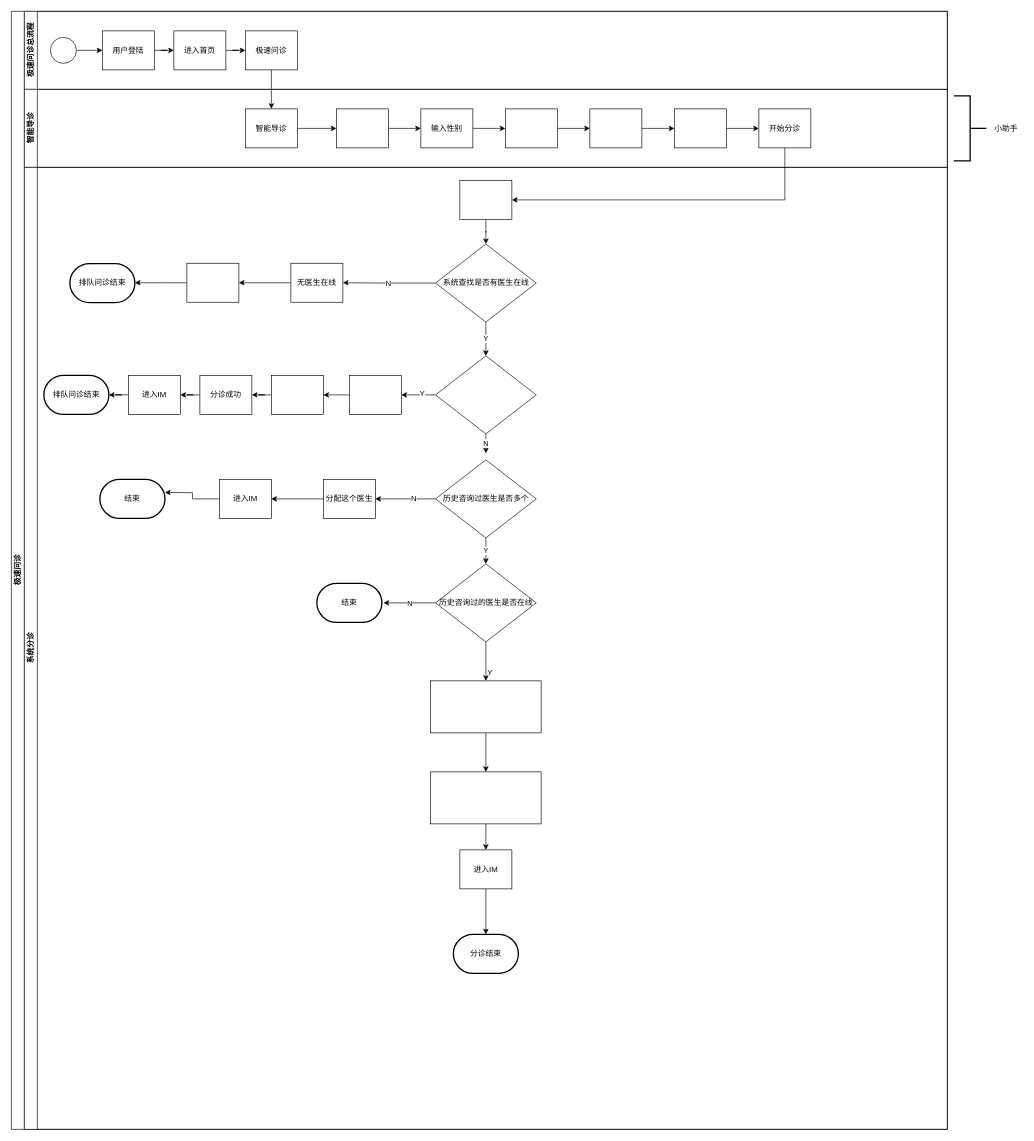
Image size: 1034x1141. Some labels were removed from this diagram. Here are the shapes that lost their labels. From the top down, the centre of each, then its label:
pixel 63 50: 开始
pixel 362 128: 输入年龄
pixel 531 128: 输入基本情况
pixel 615 128: 上传相关图片
pixel 700 128: 进入诊室
pixel 485 199: 分诊开始
pixel 212 282: 分诊失败，告知用户
pixel 297 394: 随机分配一个在线医生
pixel 375 394: 是第一次
pixel 485 394: 是否第一次问诊
pixel 485 706: 按时间先后分配（优先分配给最近咨询过的
pixel 485 797: 分配此医生
